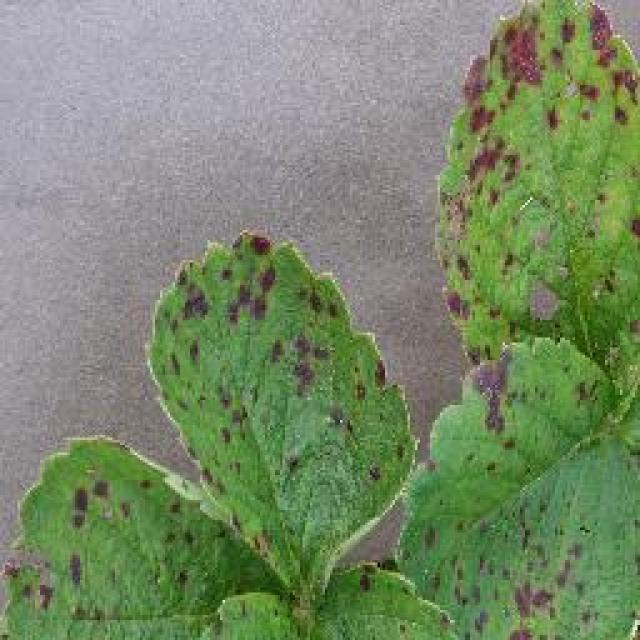Strawberry leaf scorch: (492, 51, 632, 472)
